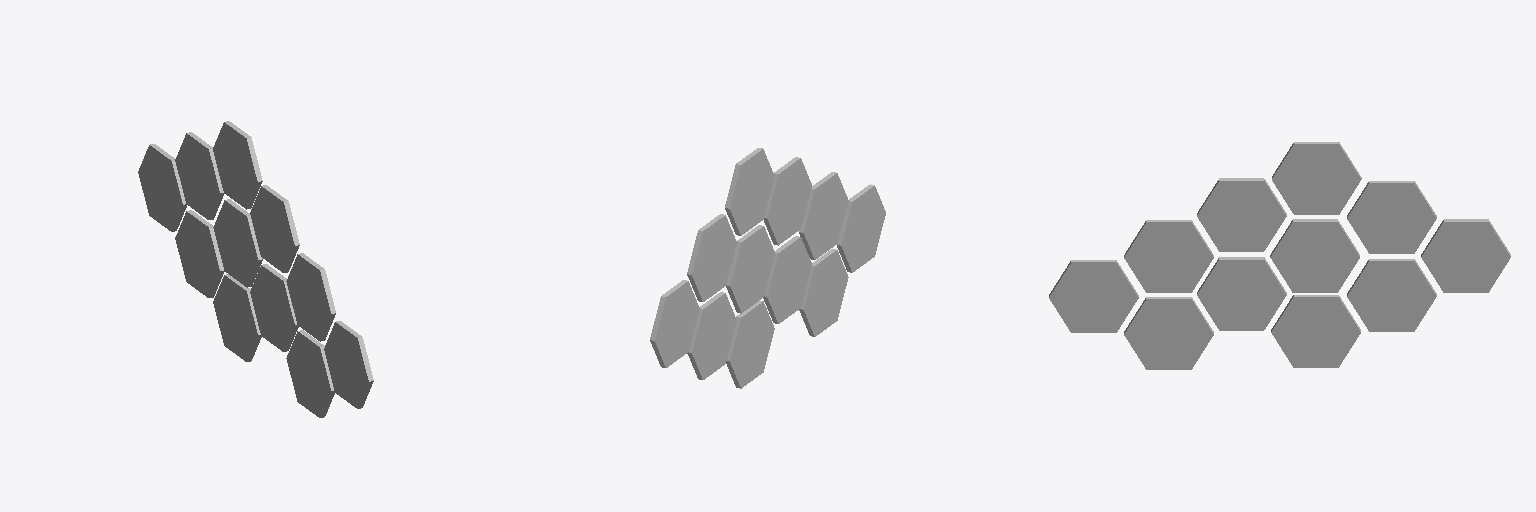
The model's file is Shield.obj.
The picture shows the model from 3 angles: view 1: azimuth 30°, elevation 25°; view 2: azimuth 150°, elevation 25°; view 3: azimuth 270°, elevation 25°; orthographic projection.
Visible parts, largest first — view 1: off; view 2: off; view 3: off.
Part boxes in pixels (left/top/right/bottom): off: left=138, top=121, right=373, bottom=417; off: left=650, top=148, right=885, bottom=388; off: left=1049, top=142, right=1510, bottom=369.
Size of the model in its own units: 0.037 by 1.48 by 2.74.